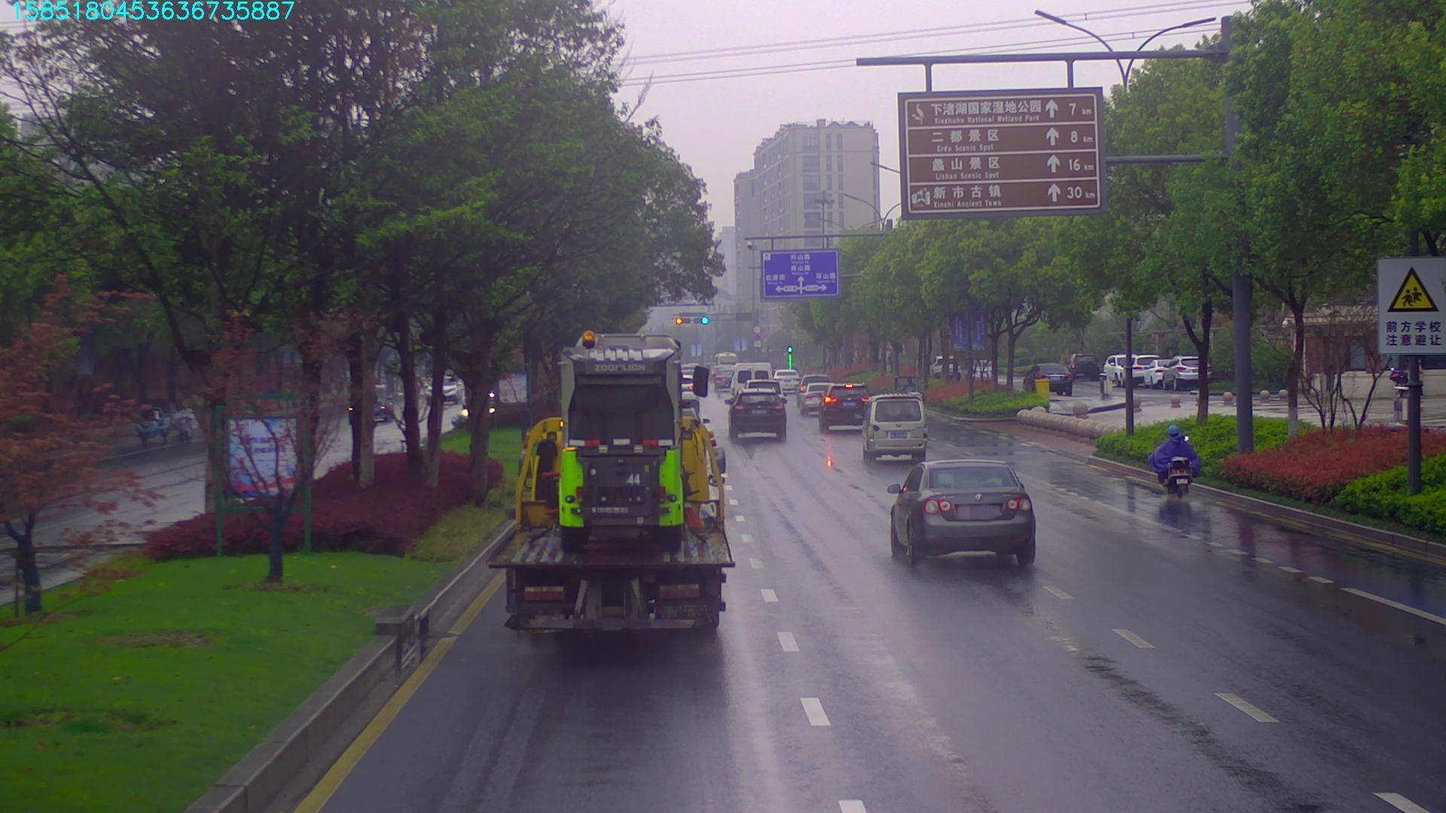green: (691, 315, 715, 326)
red: (671, 317, 693, 324)
